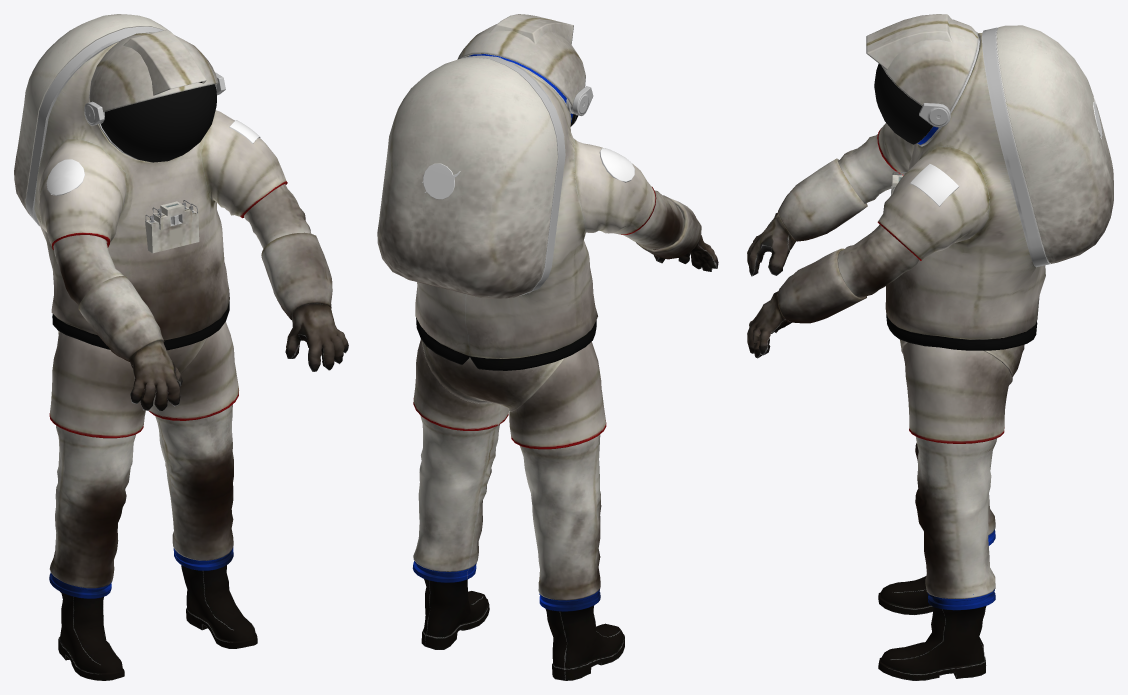
The model's file is suit-z2.glb.
3 renders of one model, left to right at view 1: azimuth 30°, elevation 25°; view 2: azimuth 150°, elevation 25°; view 3: azimuth 270°, elevation 25°, orthographic.
Visible parts, largest first — view 1: Z2; view 2: Z2; view 3: Z2.
Boxes of the visible parts, <box> form: Z2: <box>14,14,348,680</box>; Z2: <box>377,14,718,680</box>; Z2: <box>747,14,1113,680</box>.
Size of the model in its own units: 0.7944 by 1.94 by 1.04.
Materials: 1 (1 with a texture image).
